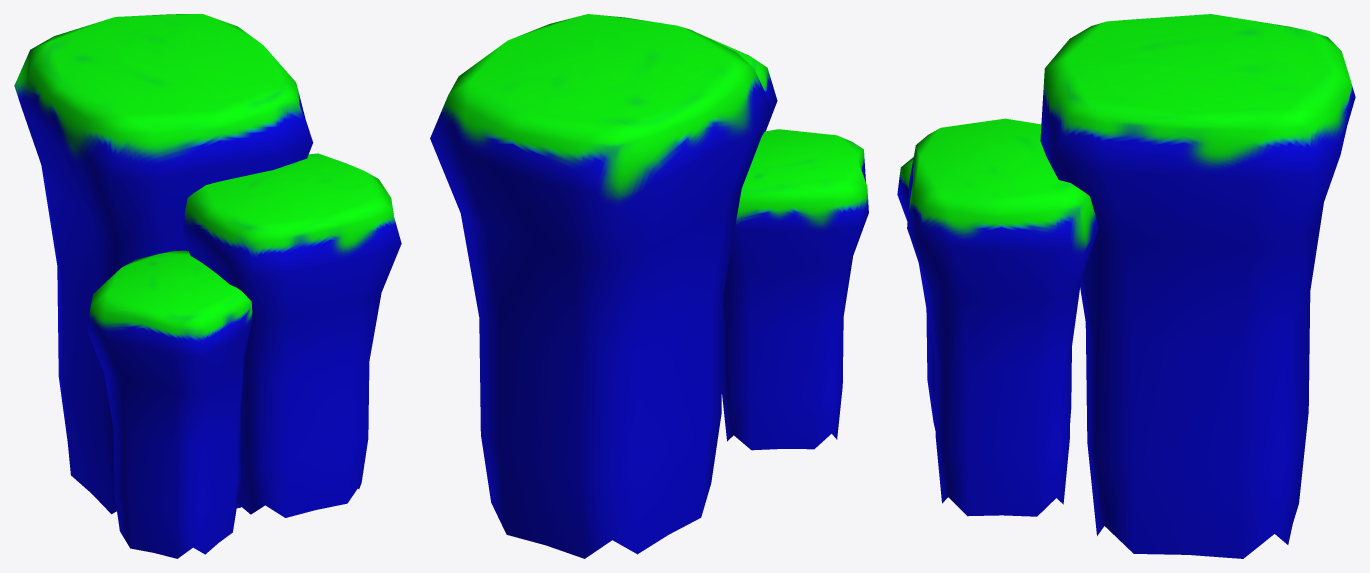
Rendered from PlatformIslands2Shape.dae.
The picture shows the model from 3 angles, left to right: view 1: azimuth 30°, elevation 25°; view 2: azimuth 150°, elevation 25°; view 3: azimuth 270°, elevation 25°; orthographic projection. The views are drawn at different scales.
Parts seen in each view (by area): view 1: PlatformIslands2; view 2: PlatformIslands2; view 3: PlatformIslands2.
Part boxes in pixels (bbox=[...]): PlatformIslands2: bbox=[14, 14, 401, 558]; PlatformIslands2: bbox=[430, 14, 868, 558]; PlatformIslands2: bbox=[897, 14, 1355, 558].
Size of the model in its own units: 53.24 by 75.66 by 68.06.
